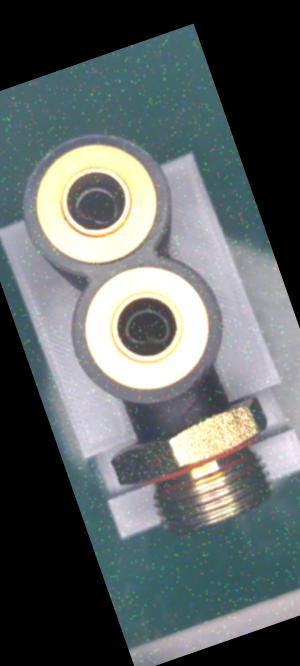craze: (179, 397, 203, 417)
off-centered: (62, 171, 130, 236), (113, 297, 177, 356)
